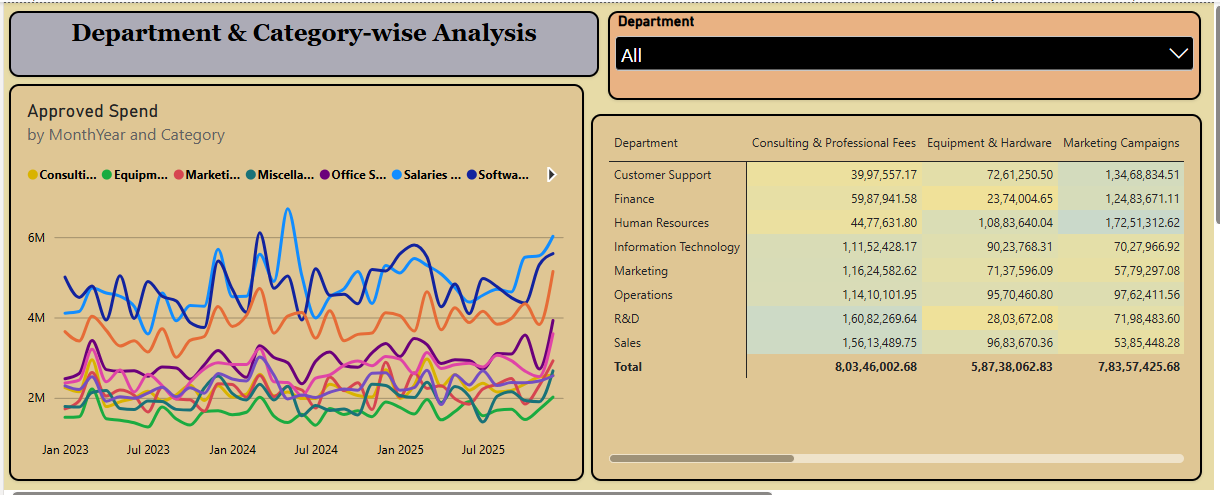

Layout of this report page (visuals, bound fields, positions):
{"tool":"powerbi","page":{"name":"Page 2","canvas":[1920,1080],"ordinal":1},"visuals":[{"type":"textbox","box":[10.1,8.1,589.9,65.7],"z":0},{"type":"pivotTable","fields":{"Rows":["dim_department.Department"],"Columns":["dim_category.Category"],"Values":["fact_actual_expenses_CLEANED.Approved Spend"]},"box":[591.9,111.1,611.1,366.7],"z":1000},{"type":"lineChart","fields":{"Y":["fact_actual_expenses_CLEANED.Approved Spend"],"Series":["dim_category.Category"],"Category":["dim_calendar.MonthYear"]},"box":[10.1,80.8,574.7,397],"z":2000},{"type":"slicer","fields":{"Values":["dim_department.Department"]},"box":[609.1,8.1,592.9,88.9],"z":3000}]}

Visuals, with their boxes on the page's 1920x1080 design canvas (x1, y1, x2, y2). These are canvas units, not pixel positions in the 1220x495 screenshot, which may show the page scaled, cropped or inside an application window:
textbox: {"left": 10, "top": 8, "right": 600, "bottom": 74}
pivotTable - dim_department.Department x dim_category.Category: {"left": 592, "top": 111, "right": 1203, "bottom": 478}
lineChart - fact_actual_expenses_CLEANED.Approved Spend x dim_category.Category: {"left": 10, "top": 81, "right": 585, "bottom": 478}
slicer - dim_department.Department: {"left": 609, "top": 8, "right": 1202, "bottom": 97}
